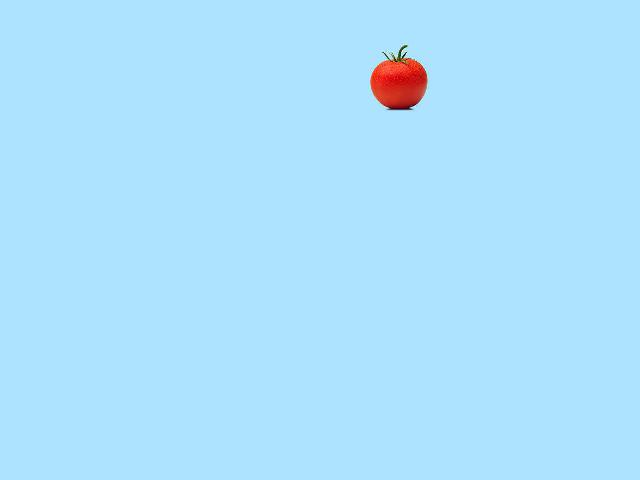tomato: (369, 58, 426, 108)
